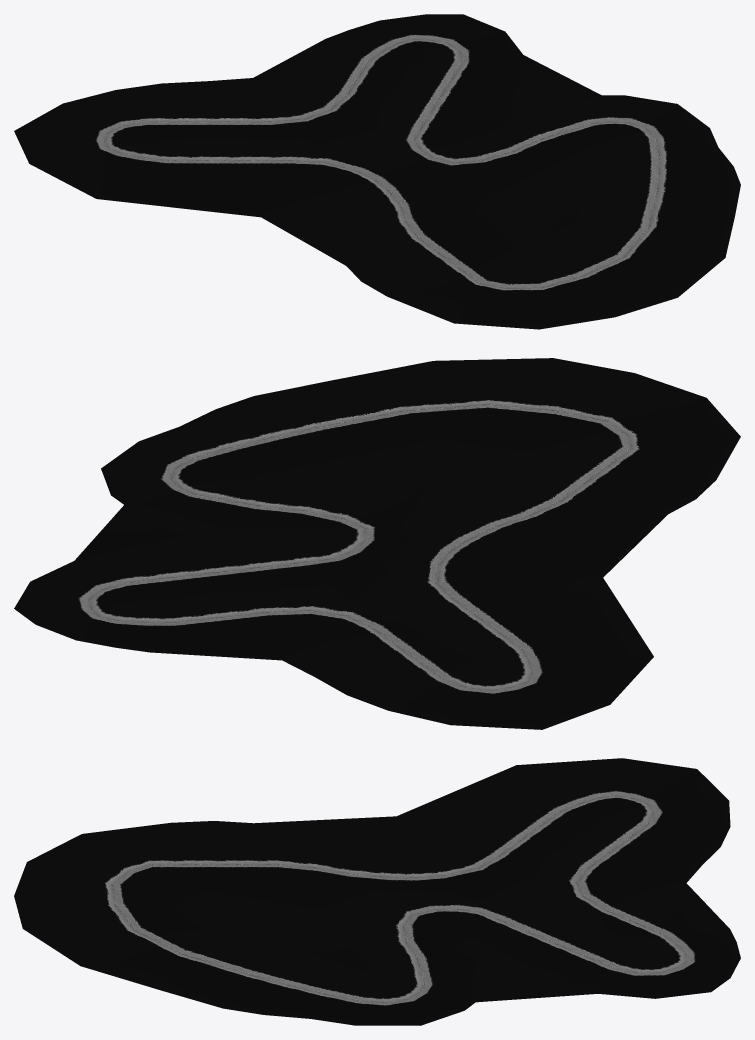
Rendered from road.obj.
3 views of the same model, one above another, from view 1: azimuth 30°, elevation 25°; view 2: azimuth 150°, elevation 25°; view 3: azimuth 270°, elevation 25° (orthographic). The views are drawn at different scales.
Parts seen in each view (by area): view 1: track_sides, road; view 2: track_sides, road; view 3: track_sides, road.
Boxes of the visible parts, x1,y1,x2,y2 form: track_sides: (14, 14, 740, 329); road: (95, 34, 666, 290); track_sides: (14, 358, 740, 729); road: (78, 400, 639, 693); track_sides: (14, 758, 740, 1025); road: (105, 790, 695, 1005).
Bounding box in the file's own units: 225 × 0.3339 × 258.
Materials: 1 (1 with a texture image).
